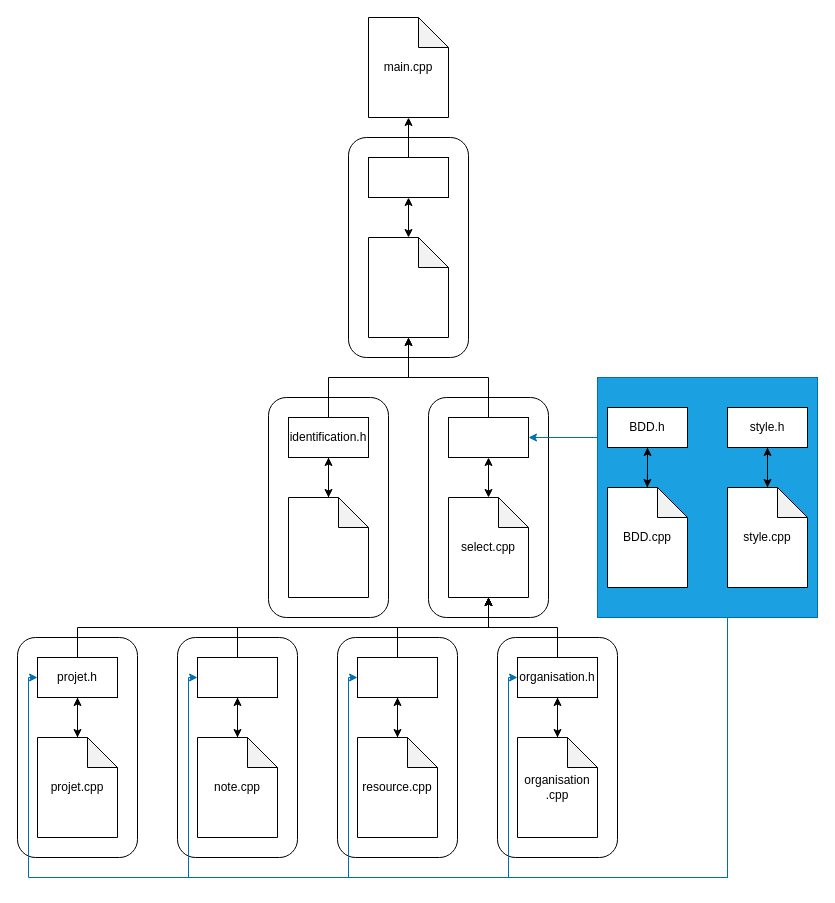
Some shapes in this 835 by 903 pixel diagram are drawn without their labels. Here are the shapes that lost their labels. From the top down, the centre of each, then its label:
At [408,177]: "Qt_main.h".
At [408,287]: "Qt_main.cpp".
At [488,437]: "select.h".
At [328,547]: "identification . cpp".
At [237,677]: "note.h".
At [397,677]: "resource.h".
